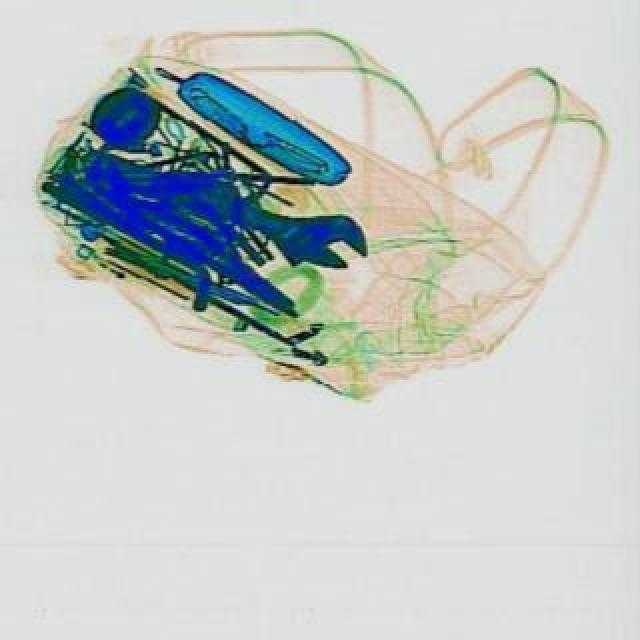scissors: (74, 132, 380, 292)
